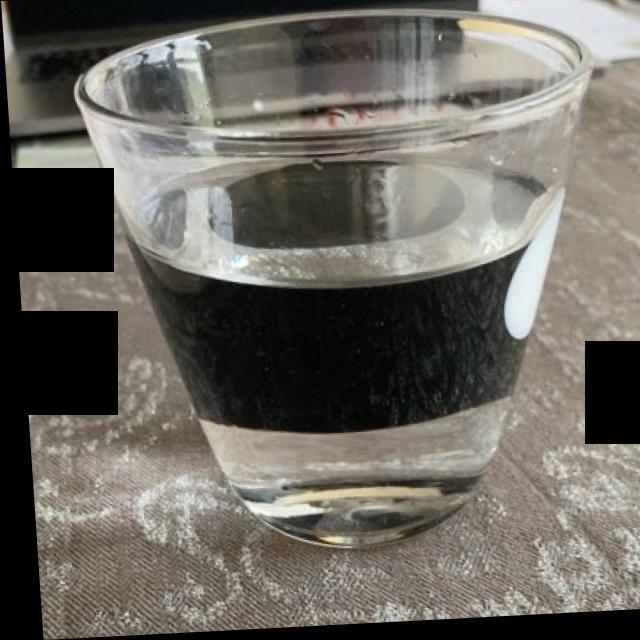water: (140, 102, 561, 451)
